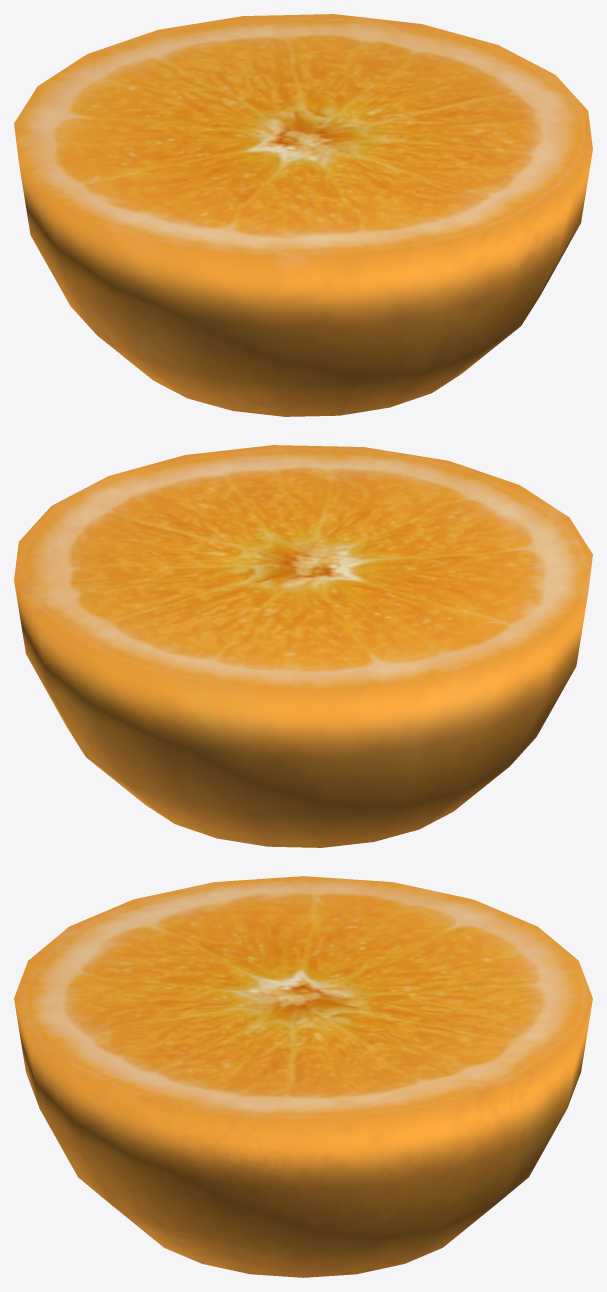
Rendered from Orange.fbx.
3 renders of one model, top to bottom at view 1: azimuth 30°, elevation 25°; view 2: azimuth 150°, elevation 25°; view 3: azimuth 270°, elevation 25°, orthographic.
Visible parts, largest first — view 1: Orange; view 2: Orange; view 3: Orange.
Boxes of the visible parts, x1,y1,x2,y2 form: Orange: (14,14,592,416); Orange: (14,445,592,847); Orange: (14,876,592,1277).
Size of the model in its own units: 1.98 by 0.9152 by 1.98.
